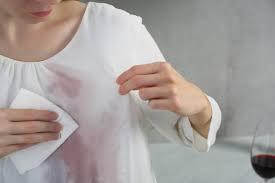wine: (61, 128, 116, 183), (50, 68, 90, 105)
